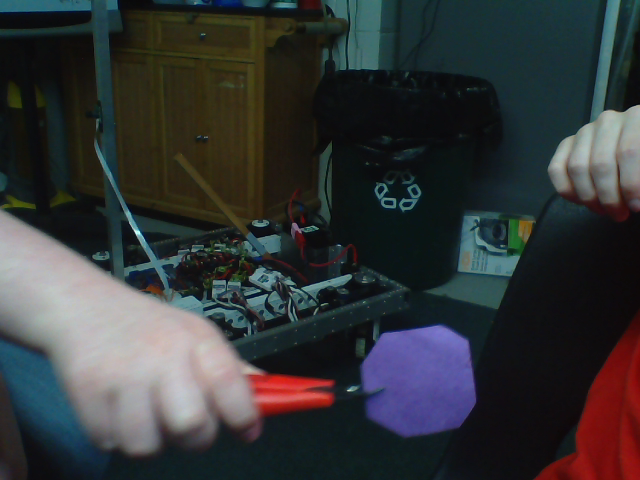ball: (358, 324, 477, 434)
